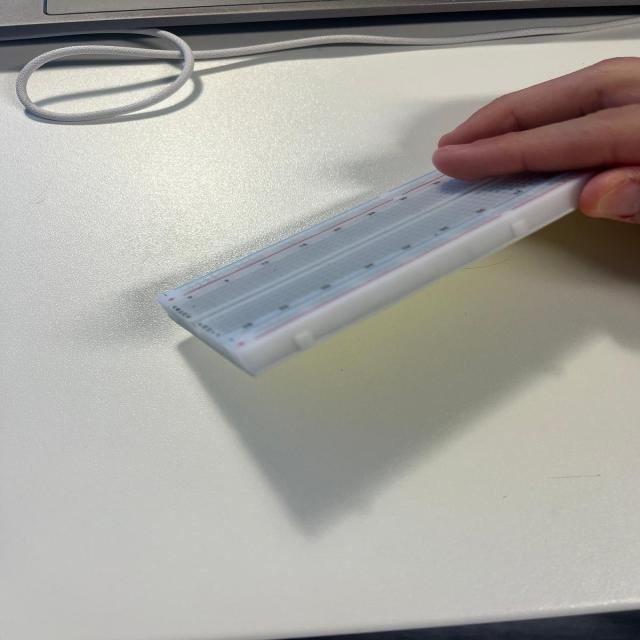BreadBoard: (149, 167, 575, 385)
